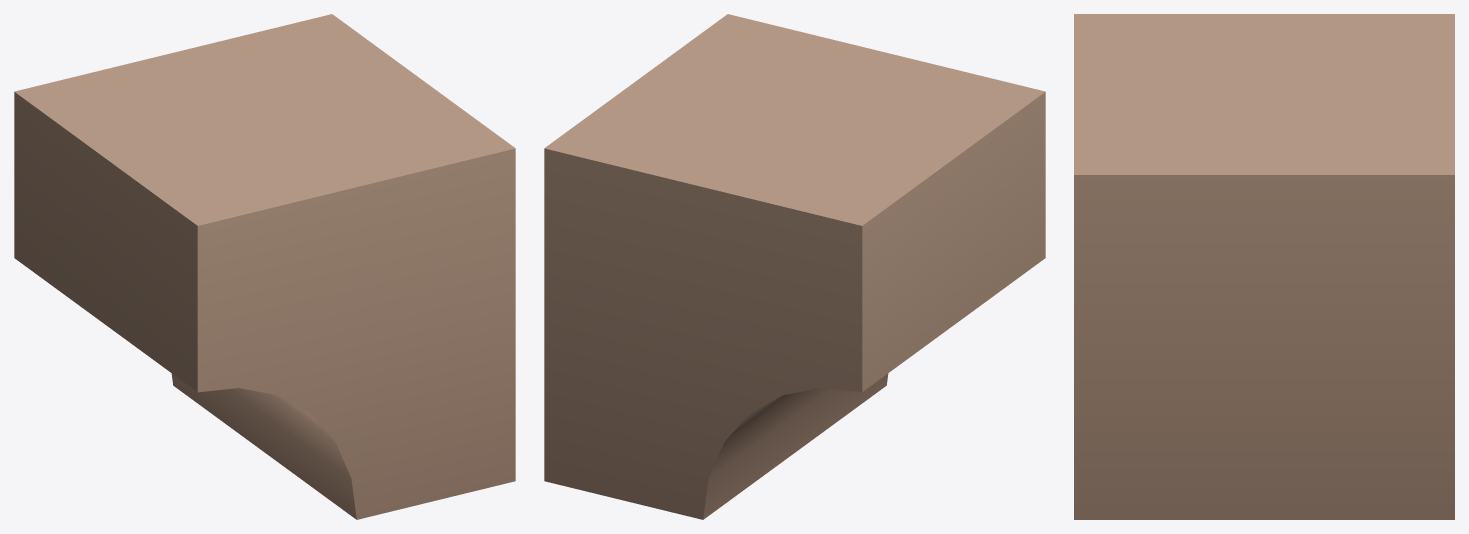
File: corners-corner-large-a.glb
3 renders of one model, left to right at view 1: azimuth 30°, elevation 25°; view 2: azimuth 150°, elevation 25°; view 3: azimuth 270°, elevation 25°, orthographic. The views are drawn at different scales.
Visible parts, largest first — view 1: corners-corner-large-a; view 2: corners-corner-large-a; view 3: corners-corner-large-a.
Boxes of the visible parts, x1,y1,x2,y2 form: corners-corner-large-a: [14, 14, 515, 519]; corners-corner-large-a: [544, 14, 1045, 519]; corners-corner-large-a: [1074, 14, 1454, 519].
Bounding box in the file's own units: 0.2 × 0.2 × 0.2.
